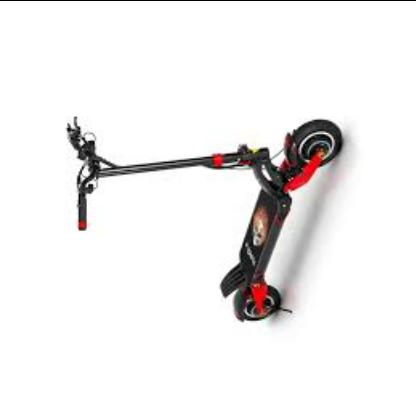bike: (64, 116, 345, 324)
